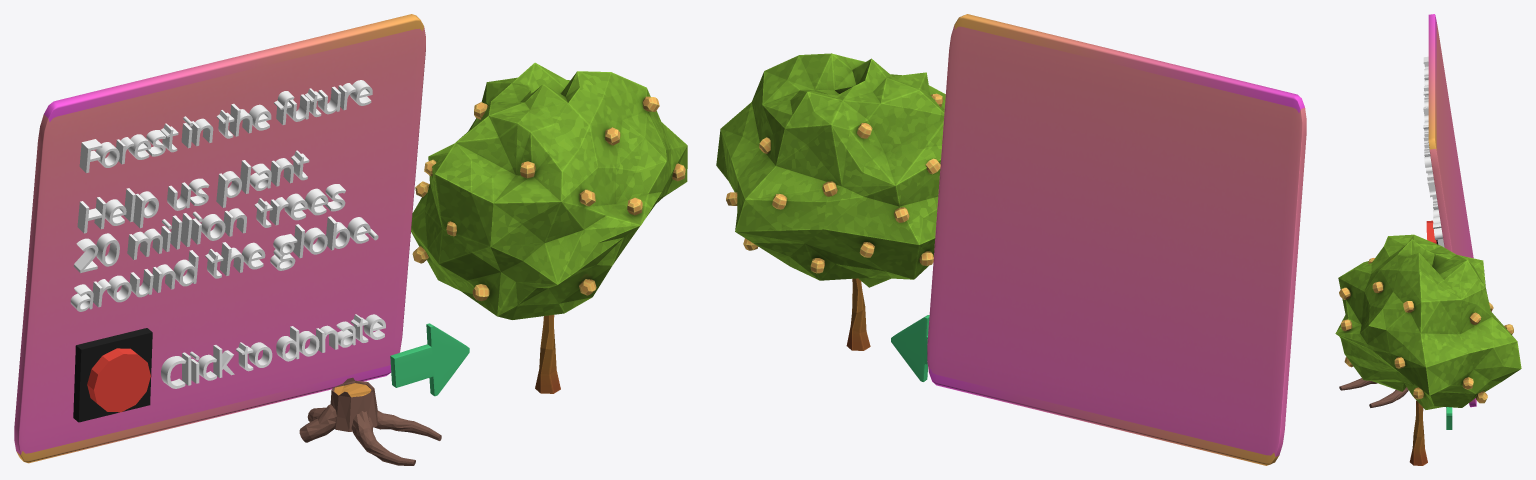
File: social good.obj
3 views of the same model, side by side, from view 1: azimuth 30°, elevation 25°; view 2: azimuth 150°, elevation 25°; view 3: azimuth 270°, elevation 25° (orthographic). The views are drawn at different scales.
Parts seen in each view (by area): view 1: 070_Rectagle_with_bevel, 073_Orange_tree, 071_Buffer_Layer, 074_Pin, 075_mesh391364438, 076_mesh991854119, 030_m, 022_g, 042_H; view 2: 070_Rectagle_with_bevel, 073_Orange_tree, 074_Pin; view 3: 073_Orange_tree, 070_Rectagle_with_bevel, 071_Buffer_Layer.
Boxes of the visible parts, x1,y1,x2,y2 form: 070_Rectagle_with_bevel: [14, 14, 425, 463]; 073_Orange_tree: [411, 62, 687, 393]; 071_Buffer_Layer: [299, 377, 441, 465]; 074_Pin: [390, 323, 469, 396]; 075_mesh391364438: [73, 328, 152, 422]; 076_mesh991854119: [87, 348, 150, 412]; 030_m: [127, 228, 162, 259]; 022_g: [270, 234, 297, 270]; 042_H: [77, 197, 106, 233]; 070_Rectagle_with_bevel: [927, 14, 1306, 465]; 073_Orange_tree: [716, 53, 945, 350]; 074_Pin: [891, 315, 929, 381]; 073_Orange_tree: [1335, 234, 1521, 465]; 070_Rectagle_with_bevel: [1428, 14, 1476, 407]; 071_Buffer_Layer: [1339, 378, 1408, 407].
Size of the model in its own units: 342 by 202 by 121.
Materials: 10 (2 with a texture image).
